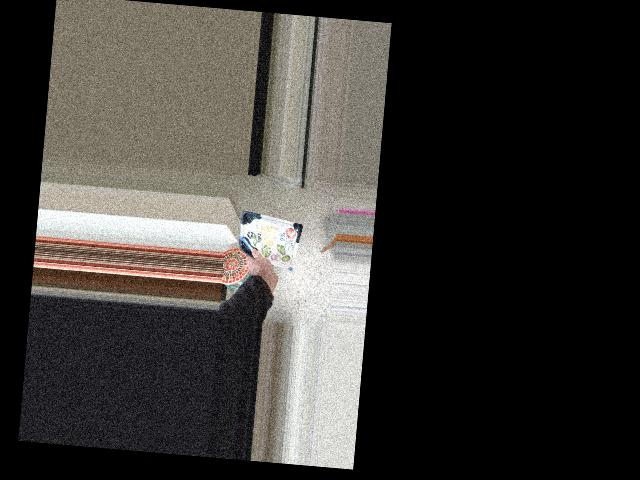cheese: (247, 227, 300, 280)
